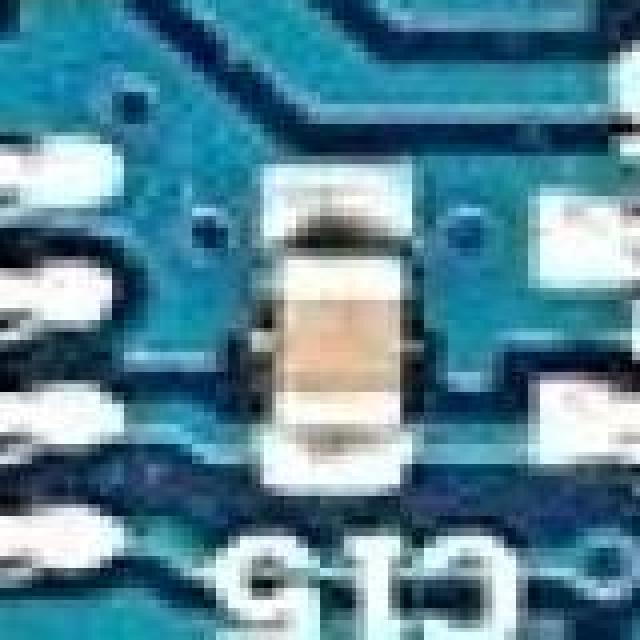IC: (0, 104, 24, 604)
capacitor: (248, 216, 416, 470), (328, 0, 640, 88), (0, 0, 292, 8)
transistor: (572, 160, 640, 480)
